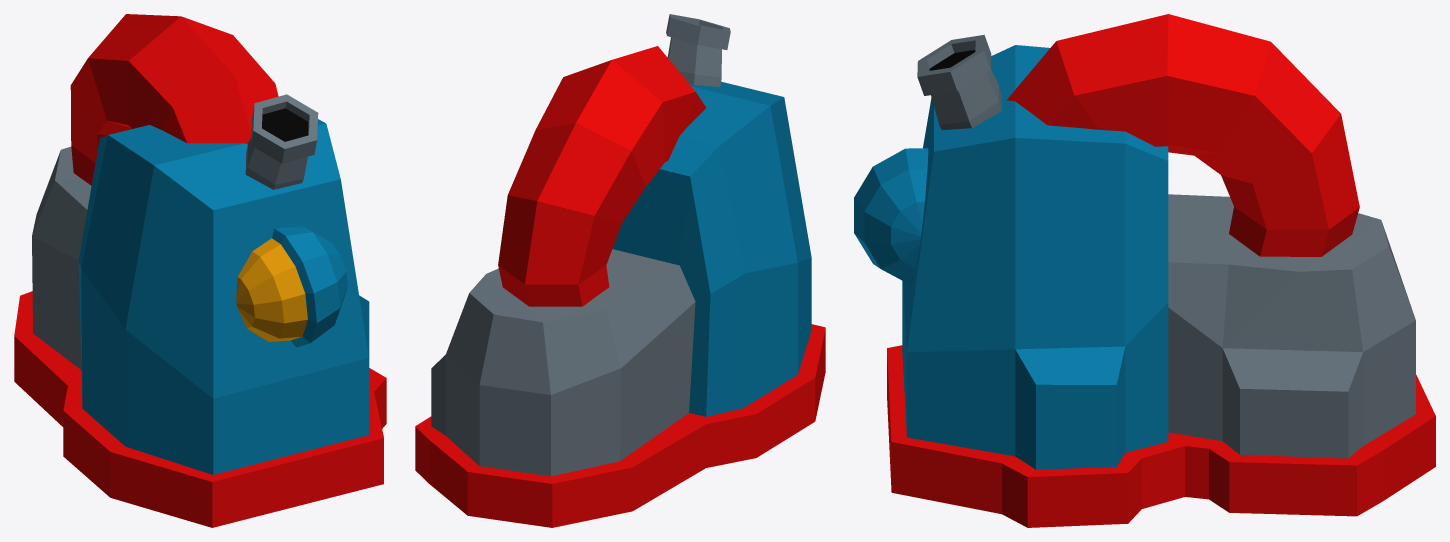
The model's file is PumpBuilding.fbx.
The picture shows the model from 3 angles, left to right: view 1: azimuth 30°, elevation 25°; view 2: azimuth 150°, elevation 25°; view 3: azimuth 270°, elevation 25°; orthographic projection. The views are drawn at different scales.
Visible parts, largest first — view 1: PumpBuilding; view 2: PumpBuilding; view 3: PumpBuilding.
Boxes of the visible parts, left/top/right/bottom form: PumpBuilding: left=14, top=14, right=386, bottom=527; PumpBuilding: left=415, top=14, right=825, bottom=527; PumpBuilding: left=854, top=14, right=1435, bottom=527.
Size of the model in its own units: 5.65 by 7.54 by 9.09.
